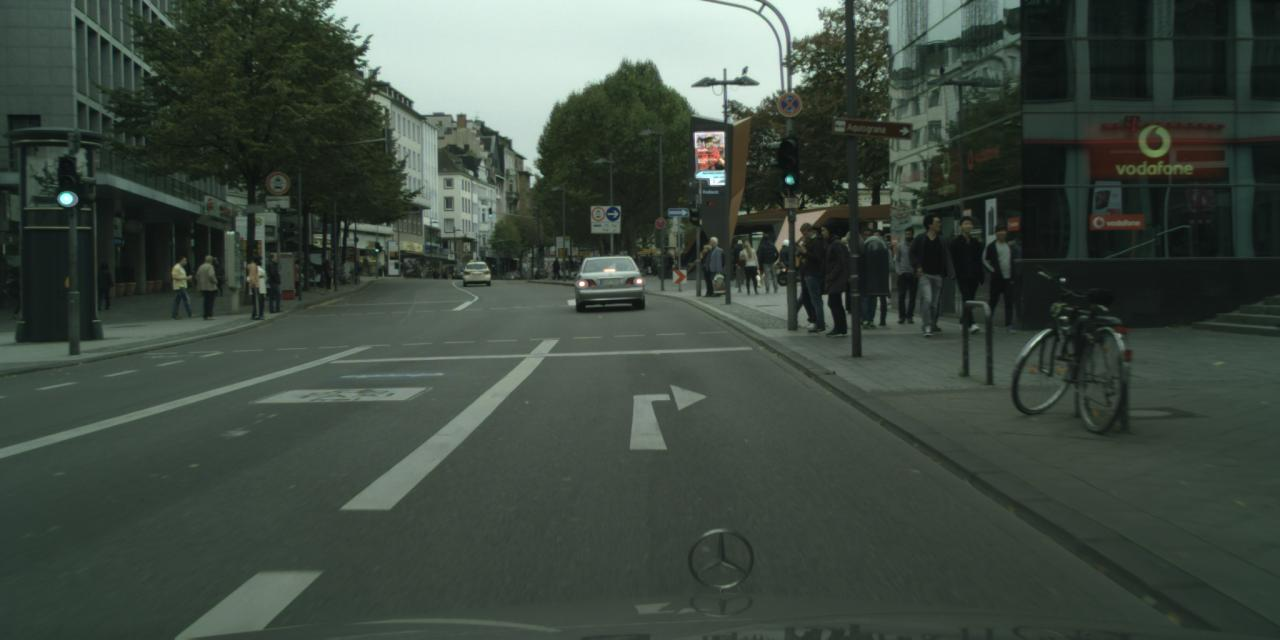ped: (907, 213, 956, 333), (943, 215, 990, 331), (809, 221, 855, 335), (978, 222, 1023, 332), (790, 221, 834, 331), (847, 228, 887, 328), (791, 226, 831, 325), (856, 228, 896, 327), (835, 229, 874, 325), (887, 227, 926, 323), (789, 234, 828, 327), (195, 254, 221, 319), (244, 253, 270, 318), (170, 256, 196, 318), (756, 233, 780, 293), (262, 252, 286, 312), (702, 236, 726, 296), (738, 238, 761, 294), (246, 261, 269, 317), (16, 262, 38, 319), (699, 244, 720, 296), (93, 260, 113, 310), (710, 243, 729, 288), (731, 239, 749, 283), (781, 239, 797, 280), (208, 258, 224, 296), (290, 258, 304, 296), (321, 260, 333, 290), (181, 262, 192, 289), (659, 251, 669, 278), (563, 254, 573, 279), (664, 253, 674, 278), (650, 252, 659, 275), (552, 257, 560, 279), (544, 260, 552, 280), (560, 257, 568, 277), (630, 254, 638, 274), (642, 254, 650, 274), (646, 252, 654, 272), (635, 254, 643, 273), (376, 262, 382, 277), (440, 266, 446, 280)
